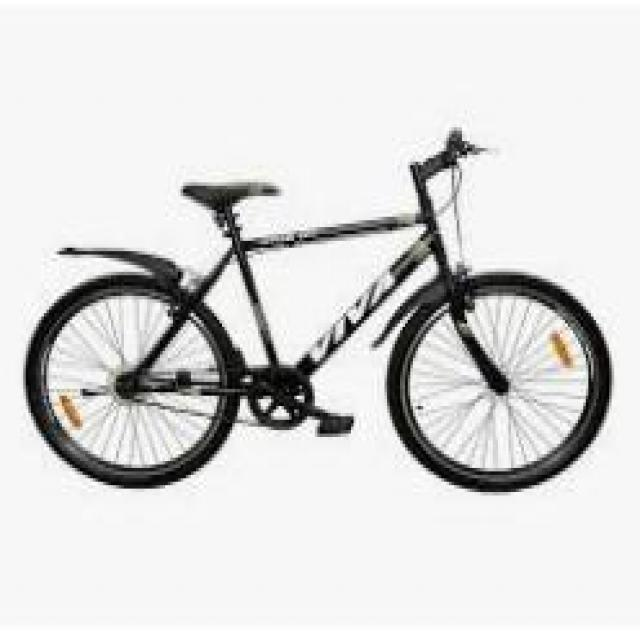bicycle: (27, 149, 610, 490)
